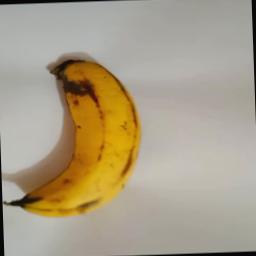Banana Unripe: (0, 48, 148, 220)
